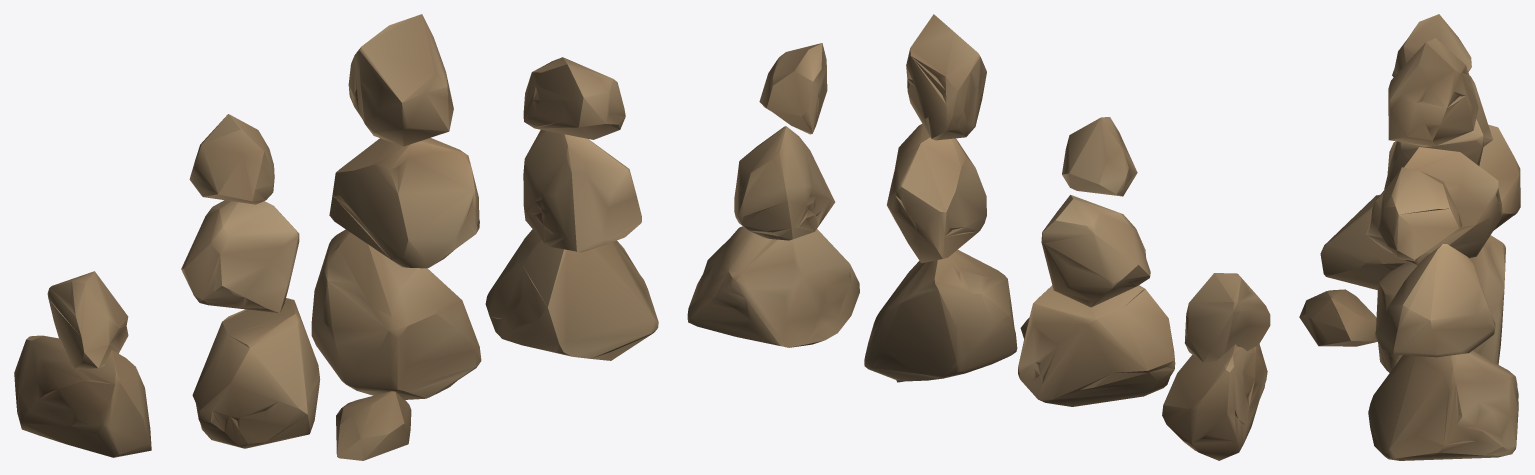
File: rock.sandstone_spires.tan.glb
3 views of the same model, side by side, from view 1: azimuth 30°, elevation 25°; view 2: azimuth 150°, elevation 25°; view 3: azimuth 270°, elevation 25° (orthographic). The views are drawn at different scales.
Parts seen in each view (by area): view 1: rock_sandstone_spires_tan; view 2: rock_sandstone_spires_tan; view 3: rock_sandstone_spires_tan.
Boxes of the visible parts, x1,y1,x2,y2 form: rock_sandstone_spires_tan: (14,14,658,460); rock_sandstone_spires_tan: (687,14,1270,460); rock_sandstone_spires_tan: (1299,14,1520,460).
Size of what is drawn, in the model's own units: 13.52 by 8.04 by 4.75.
